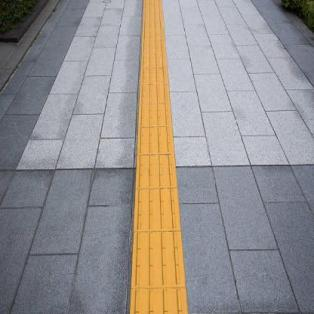Podoctatil: (109, 0, 199, 314)
